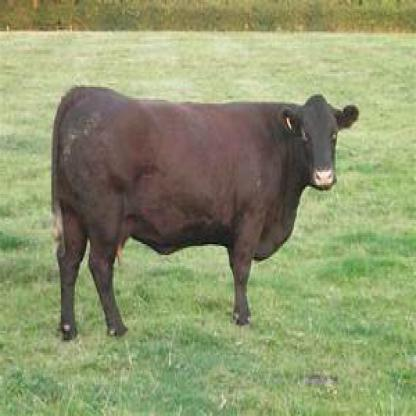cow: (40, 89, 365, 338)
